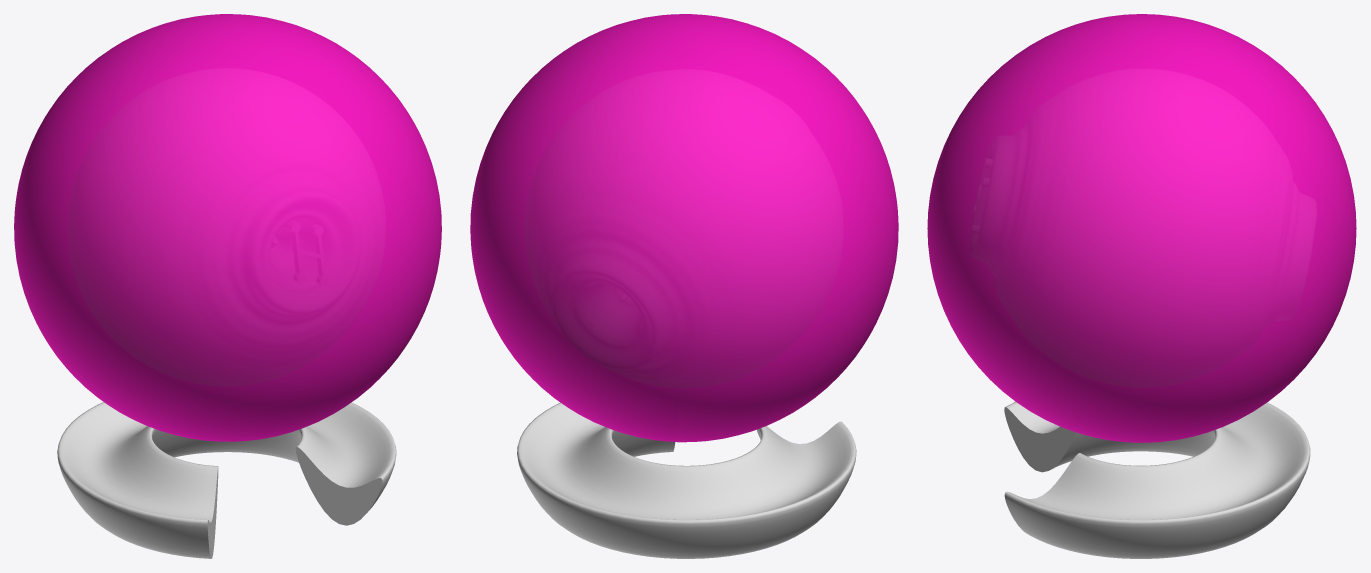
The model's file is hifi_opacityV_albedoV.fbx.
3 renders of one model, left to right at view 1: azimuth 30°, elevation 25°; view 2: azimuth 150°, elevation 25°; view 3: azimuth 270°, elevation 25°, orthographic.
Visible parts, largest first — view 1: Icosphere.001; view 2: Icosphere.001; view 3: Icosphere.001.
Part boxes in pixels (x1,y1,x2,y2): Icosphere.001: (14,14,441,558); Icosphere.001: (470,14,898,558); Icosphere.001: (927,14,1356,558).
Bounding box in the file's own units: 83.99 × 102 × 83.99.
